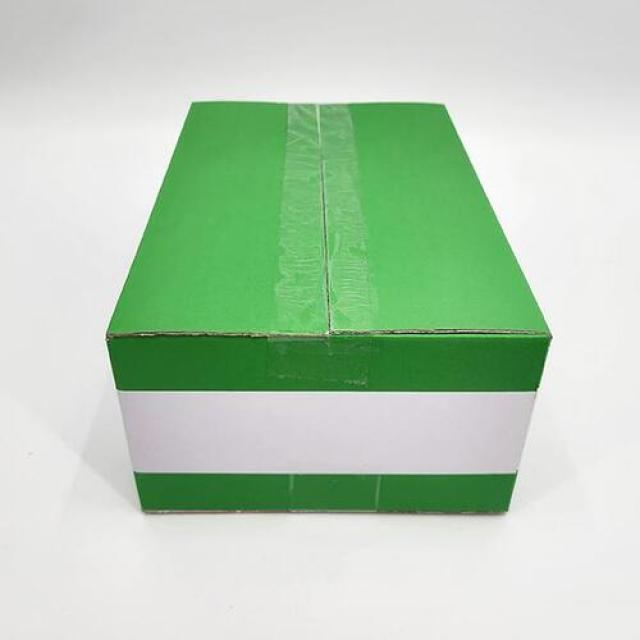box: (104, 101, 554, 515)
